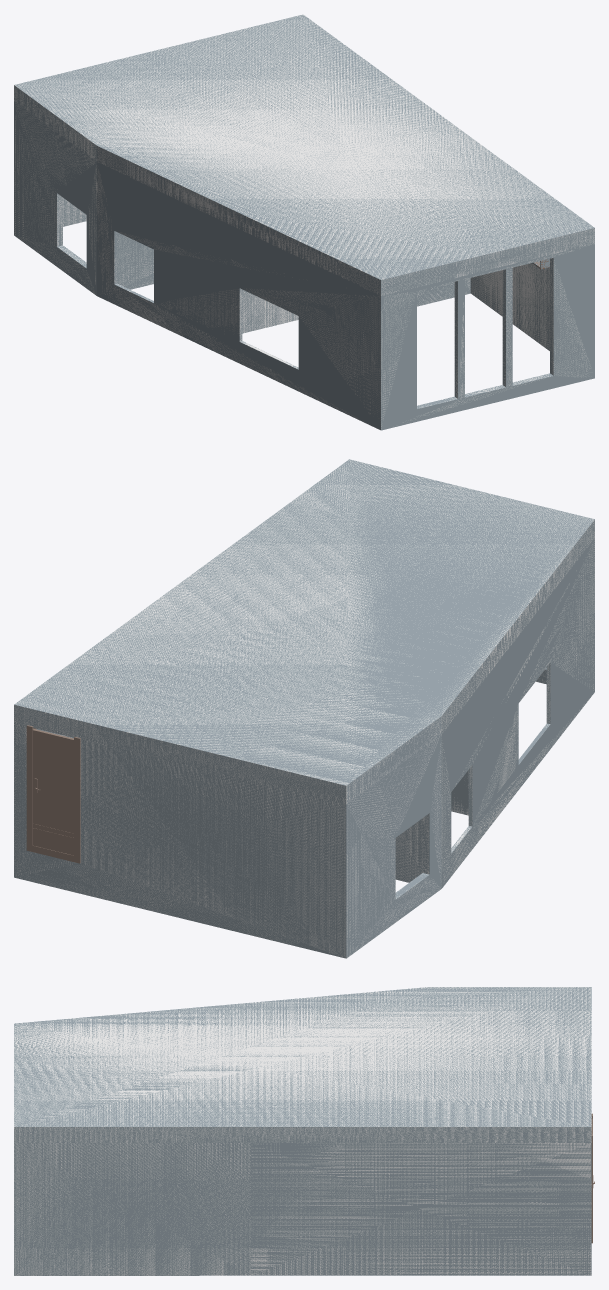
Rendered from house12.obj.
3 views of the same model, one above another, from view 1: azimuth 30°, elevation 25°; view 2: azimuth 150°, elevation 25°; view 3: azimuth 270°, elevation 25° (orthographic). The views are drawn at different scales.
Parts seen in each view (by area): view 1: house11.obj_Mesh199 Model_Geometry_1, house11.obj_Mesh199 Model_Geometry_0, house11.obj_Mesh33 Difference Model_Geometry_0, house11.obj_Mesh33 Difference Model_Geometry_1; view 2: house11.obj_Mesh199 Model_Geometry_0, house11.obj_Mesh33 Difference Model_Geometry_0, house11.obj_Mesh199 Model_Geometry_1, house11.obj_Mesh33 Difference Model_Geometry_1, house11.obj_Mesh41 Group19 Group18 Group17 Door_Wood1 Model_Geom, house11.obj_Mesh46 Group20 Group18 Group17 Door_Wood1 Model_Geom; view 3: house11.obj_Mesh33 Difference Model_Geometry_0, house11.obj_Mesh199 Model_Geometry_0, house11.obj_Mesh199 Model_Geometry_1, house11.obj_Mesh33 Difference Model_Geometry_1.
Part boxes in pixels (x1,y1,x2,y2): house11.obj_Mesh199 Model_Geometry_1: (14,14,594,295); house11.obj_Mesh199 Model_Geometry_0: (14,14,594,295); house11.obj_Mesh33 Difference Model_Geometry_0: (14,101,594,430); house11.obj_Mesh33 Difference Model_Geometry_1: (14,103,590,428); house11.obj_Mesh199 Model_Geometry_0: (14,459,594,803); house11.obj_Mesh33 Difference Model_Geometry_0: (14,538,594,958); house11.obj_Mesh199 Model_Geometry_1: (14,460,594,803); house11.obj_Mesh33 Difference Model_Geometry_1: (14,539,594,958); house11.obj_Mesh41 Group19 Group18 Group17 Door_Wood1 Model_Geom: (32,729,73,855); house11.obj_Mesh46 Group20 Group18 Group17 Door_Wood1 Model_Geom: (26,725,80,863); house11.obj_Mesh33 Difference Model_Geometry_0: (14,1143,591,1275); house11.obj_Mesh199 Model_Geometry_0: (14,987,591,1142); house11.obj_Mesh199 Model_Geometry_1: (14,987,591,1142); house11.obj_Mesh33 Difference Model_Geometry_1: (14,1143,591,1275).
Bounding box in the file's own units: 5.63 × 2.8 × 9.9.
